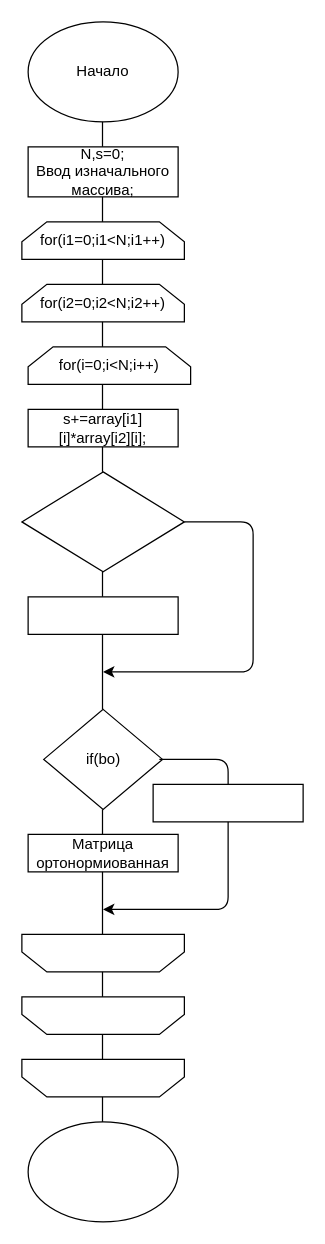
This 325x1244 diagram has some shape labels left out. The centre of each missing label's shape, as x and y in pixels:
b0=0; break;: the point at 102,615
if(i1!=i2 && s!=0 || i1==i2 && s!=1.0): the point at 102,521
Конец: the point at 102,1171
Матрица неортонормиованная: the point at 227,802
